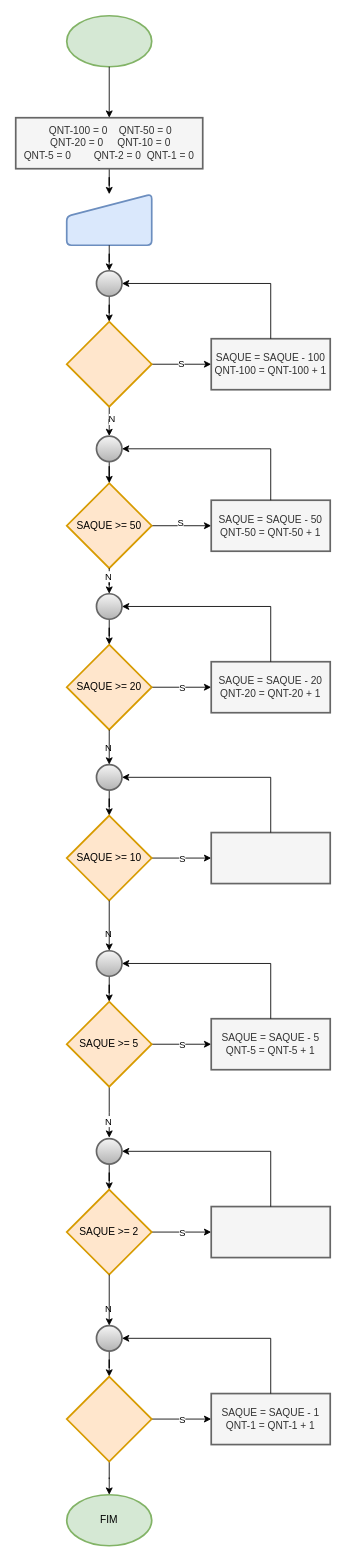
Image size: 345x1561. Some labels were removed from this diagram. The centre of each missing label's shape, as x and y in pixels:
INICIO: the point at 108,40
SAQUE: the point at 108,219
SAQUE = SAQUE - 10 QNT-10 = QNT-10 + 1: the point at 270,857
SAQUE = SAQUE - 2 QNT-2 = QNT-2 + 1: the point at 270,1231
SAQUE >= 1: the point at 108,1418
SAQUE >= 100: the point at 108,363
